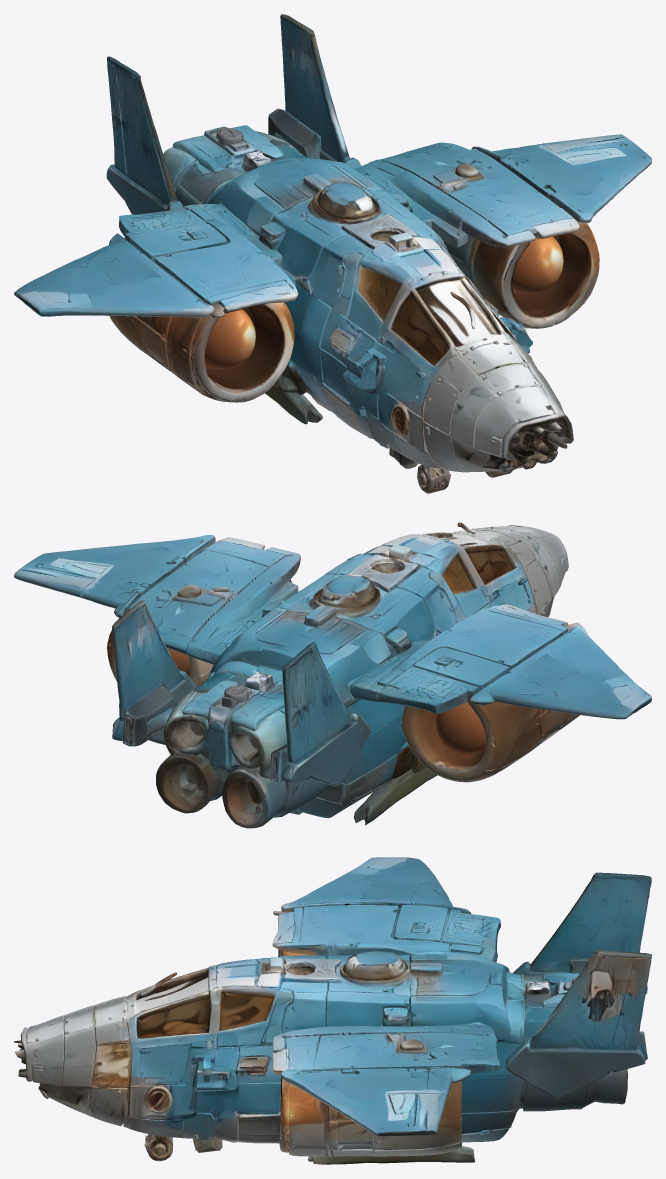
File: gunship.glb
3 renders of one model, top to bottom at view 1: azimuth 30°, elevation 25°; view 2: azimuth 150°, elevation 25°; view 3: azimuth 270°, elevation 25°, orthographic. The views are drawn at different scales.
Parts seen in each view (by area): view 1: model; view 2: model; view 3: model.
Part boxes in pixels (x1,y1,x2,y2): model: (14, 14, 651, 493); model: (14, 522, 651, 828); model: (14, 857, 651, 1164).
Size of the model in its own units: 1.89 by 0.7437 by 1.86.
1 material, 1 textured.
